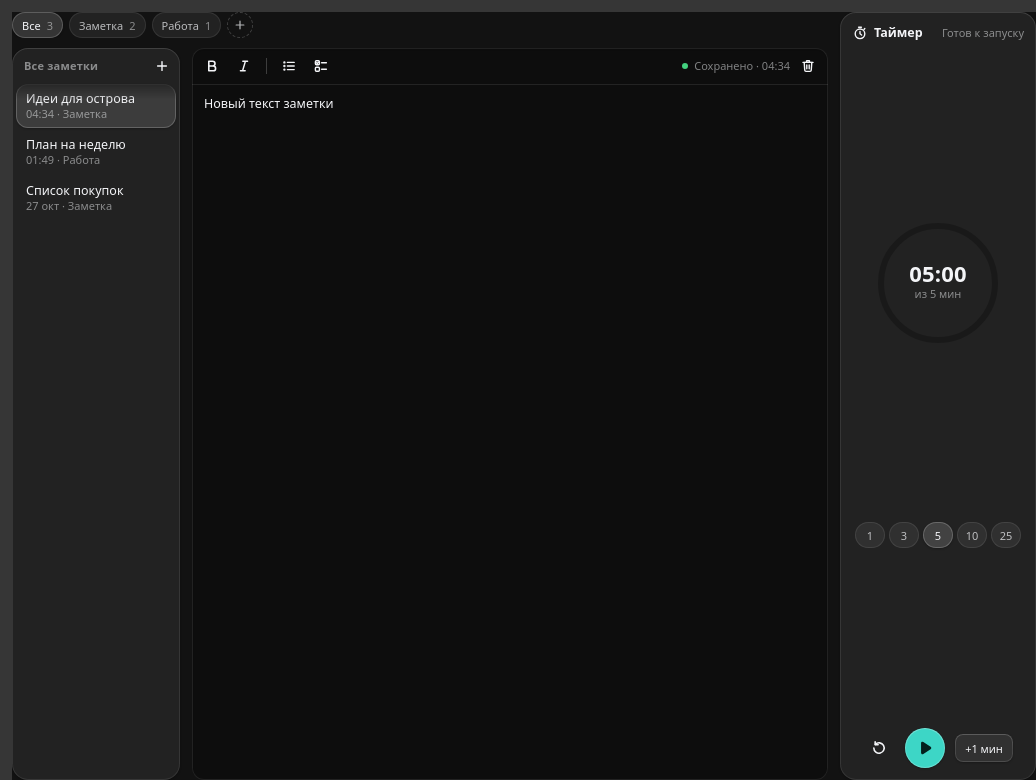
Scenario: Notes tab: autosave › typing is saved after the debounce, the status goes saving → saved
Clear the field labelled "текст заметки" at (269, 104), box [204,95,334,112]
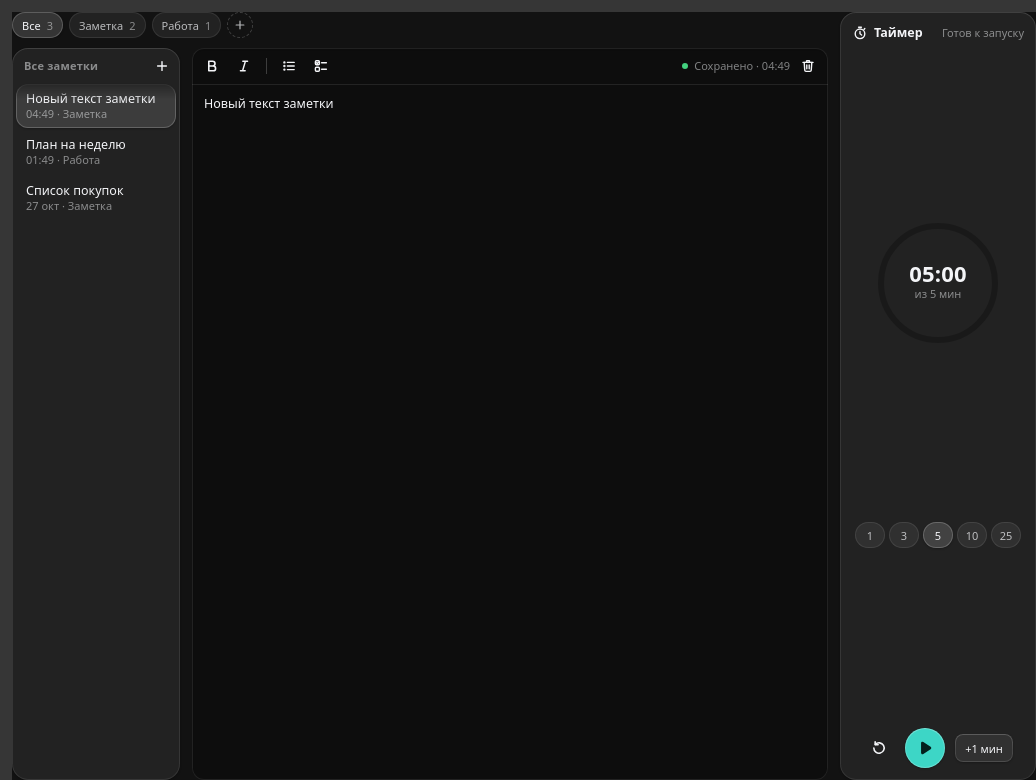
Expected: the text "Сохранено · 04:49" is shown, [682,58,790,74]
Expected: the text "Новый текст заметки" is shown, [26,91,160,106]
